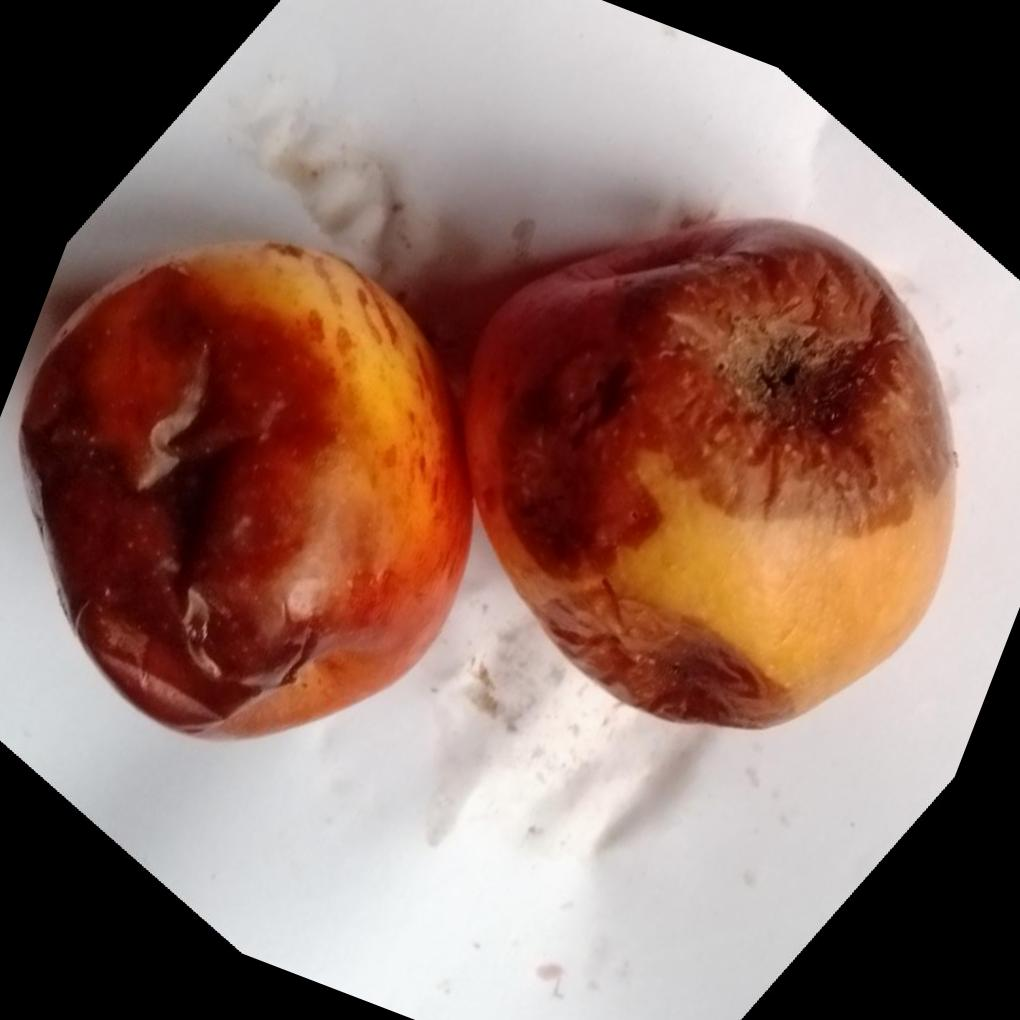FreshOrange: (18, 219, 964, 740)
